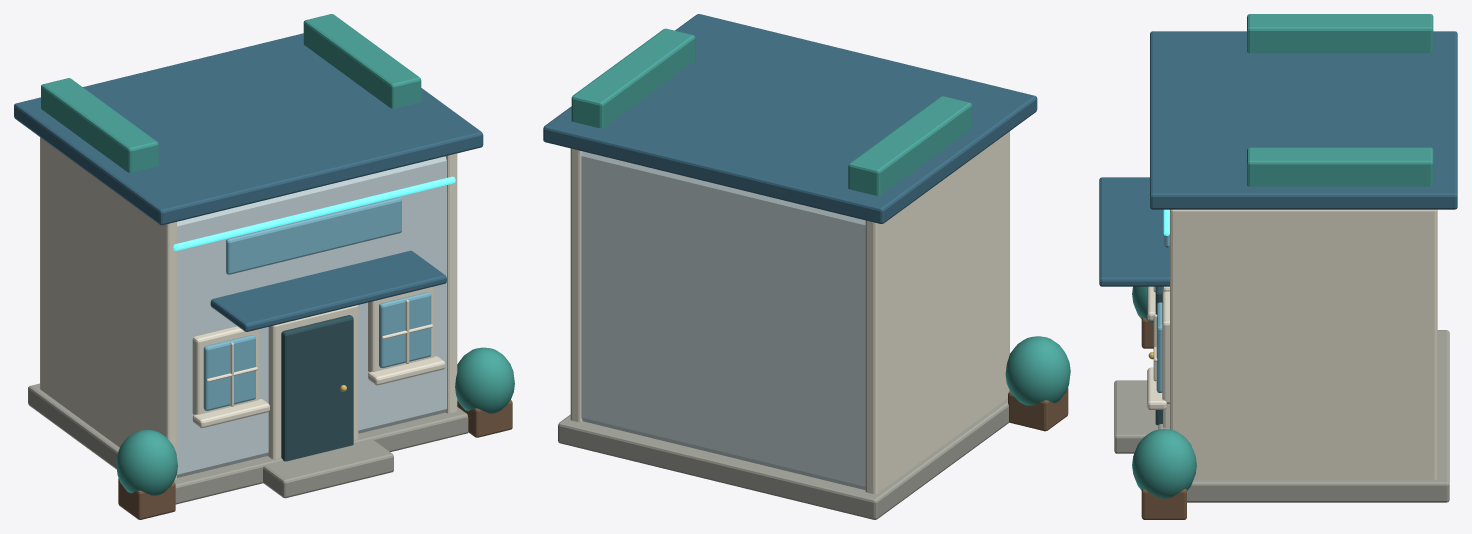
File: house-tech.glb
3 views of the same model, side by side, from view 1: azimuth 30°, elevation 25°; view 2: azimuth 150°, elevation 25°; view 3: azimuth 270°, elevation 25° (orthographic). The views are drawn at different scales.
Parts seen in each view (by area): view 1: Geometry_Roof, Geometry_Trim, Geometry_Wall, Geometry_Plant, Geometry_Glass, Geometry_Foundation, Geometry_Door, Geometry_Wood, Geometry_Light; view 2: Geometry_Wall, Geometry_Roof, Geometry_Trim, Geometry_Plant, Geometry_Foundation, Geometry_Wood; view 3: Geometry_Trim, Geometry_Roof, Geometry_Plant, Geometry_Foundation, Geometry_Wood, Geometry_Glass.
Part boxes in pixels (box(x1,y1,x2,y2)): Geometry_Roof: box(14, 33, 483, 331); Geometry_Trim: box(40, 137, 457, 480); Geometry_Wall: box(177, 156, 446, 477); Geometry_Plant: box(41, 14, 514, 495); Geometry_Glass: box(203, 197, 431, 410); Geometry_Foundation: box(28, 383, 468, 504); Geometry_Door: box(281, 315, 353, 461); Geometry_Wood: box(118, 400, 512, 519); Geometry_Light: box(173, 176, 455, 250); Geometry_Wall: box(581, 151, 865, 490); Geometry_Roof: box(543, 14, 1037, 223); Geometry_Trim: box(570, 131, 1009, 494); Geometry_Plant: box(571, 28, 1070, 405); Geometry_Foundation: box(558, 398, 1009, 519); Geometry_Wood: box(1008, 387, 1068, 431); Geometry_Trim: box(1147, 209, 1437, 479); Geometry_Roof: box(1099, 31, 1457, 286); Geometry_Plant: box(1132, 14, 1433, 498); Geometry_Foundation: box(1114, 330, 1449, 502); Geometry_Wood: box(1141, 317, 1186, 519); Geometry_Glass: box(1156, 234, 1169, 392).
Size of the model in its own units: 5.8 by 4.62 by 4.42.
